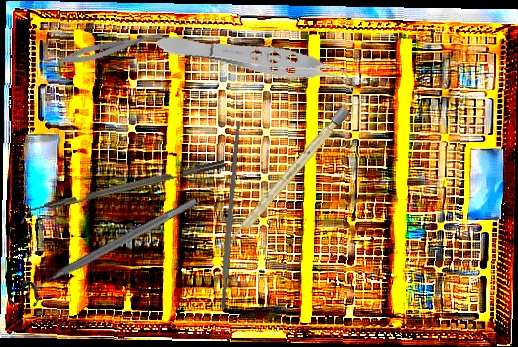Chopper: (17, 159, 228, 225)
Fixation Ring: (19, 187, 204, 308)
Micro Scissor: (59, 23, 170, 70)
Scalpel Handle: (225, 105, 351, 248), (217, 121, 243, 309)
Tissue Forceps: (153, 26, 363, 96)
